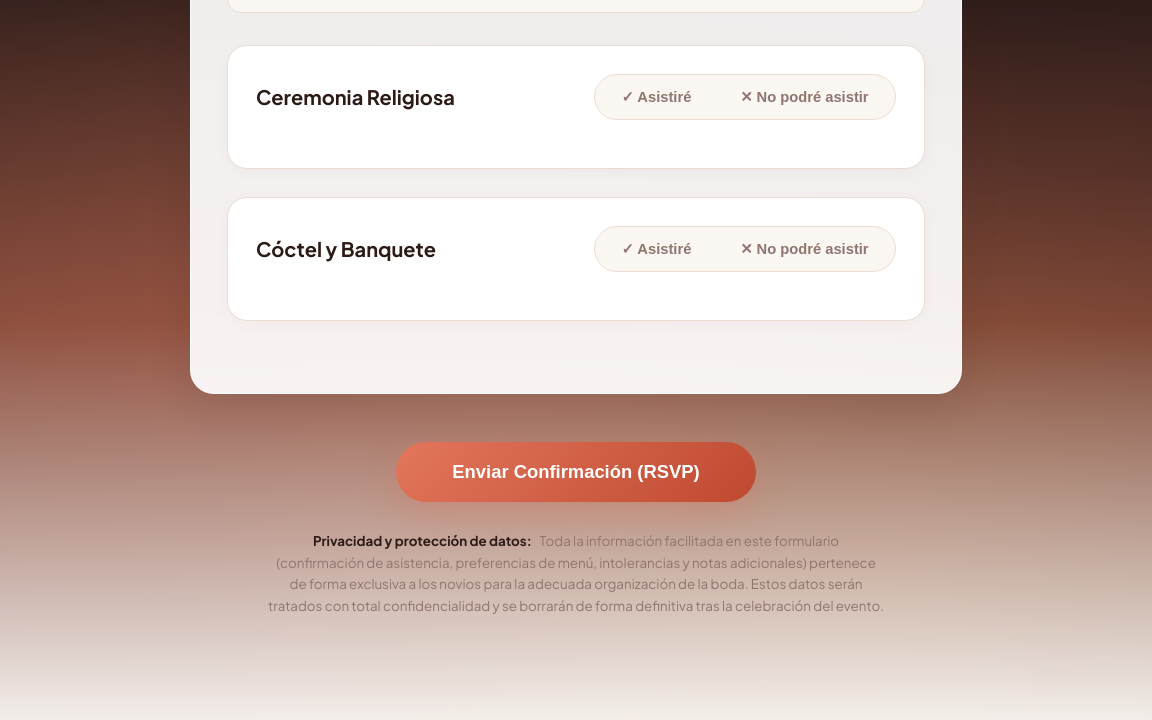
Feature: RSVP Multi-paso e Integración (RsvpPage) › Interacción con el Formulario: Menús y Asistencia › permite enviar la confirmación si el acompañante no asiste o no ha respondido sin exigir su nombre
The width and height of the screenshot is (1152, 720).
(page scrolled)
What coordinates should you click on to do the following:
click the button "Enviar Confirmación (RSVP)"
I would click on:
 (576, 472)
Its box is [396, 442, 756, 502].
(page scrolled)
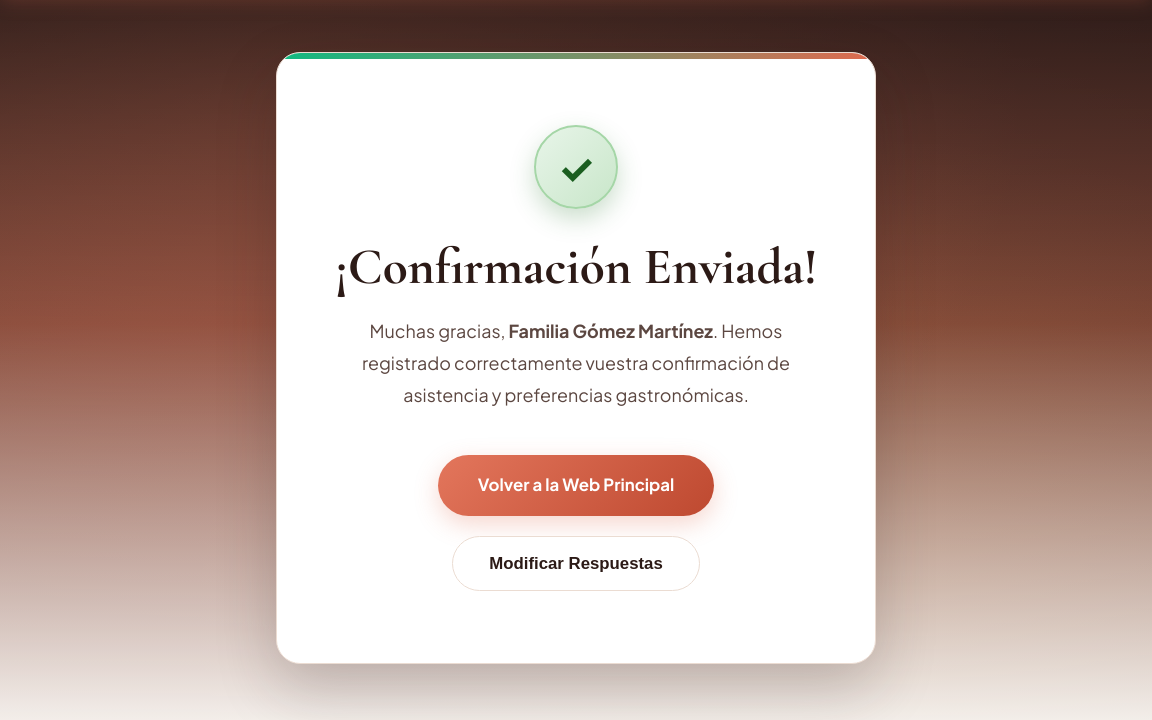
Result: the heading "¡Confirmación Enviada!" is shown at [325, 237, 827, 298]
